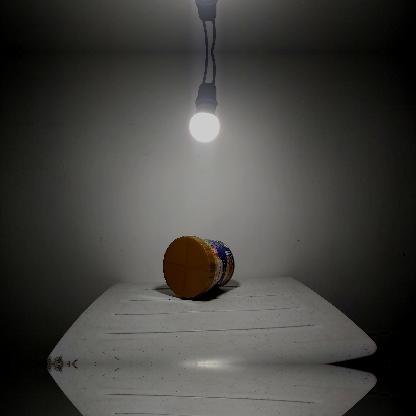Lady-s-Choice: (162, 234, 236, 298)
